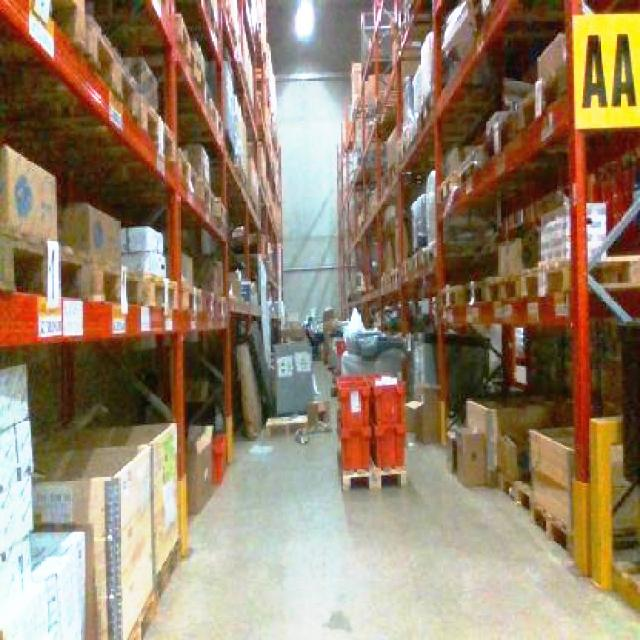ground: (0, 346, 638, 638)
pallet: (334, 0, 638, 638), (448, 389, 638, 634), (334, 371, 408, 491)
